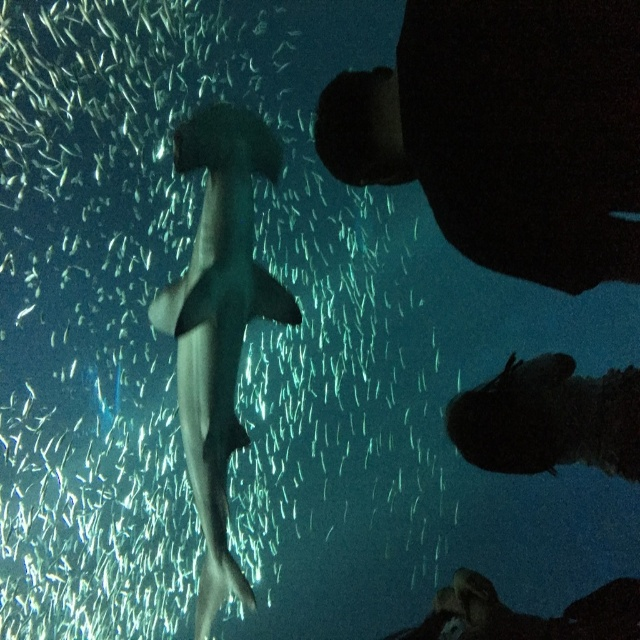Shark: (145, 103, 299, 639)
